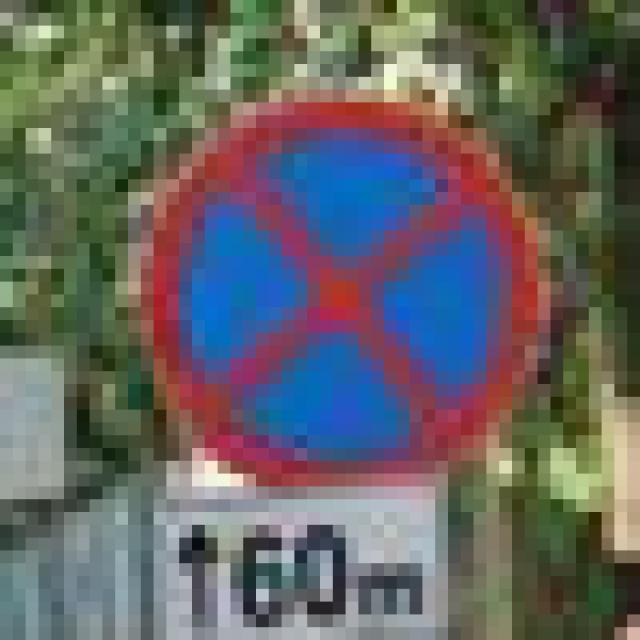no stopping or standing: (123, 77, 553, 488)
